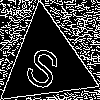S: (21, 37, 67, 93)
